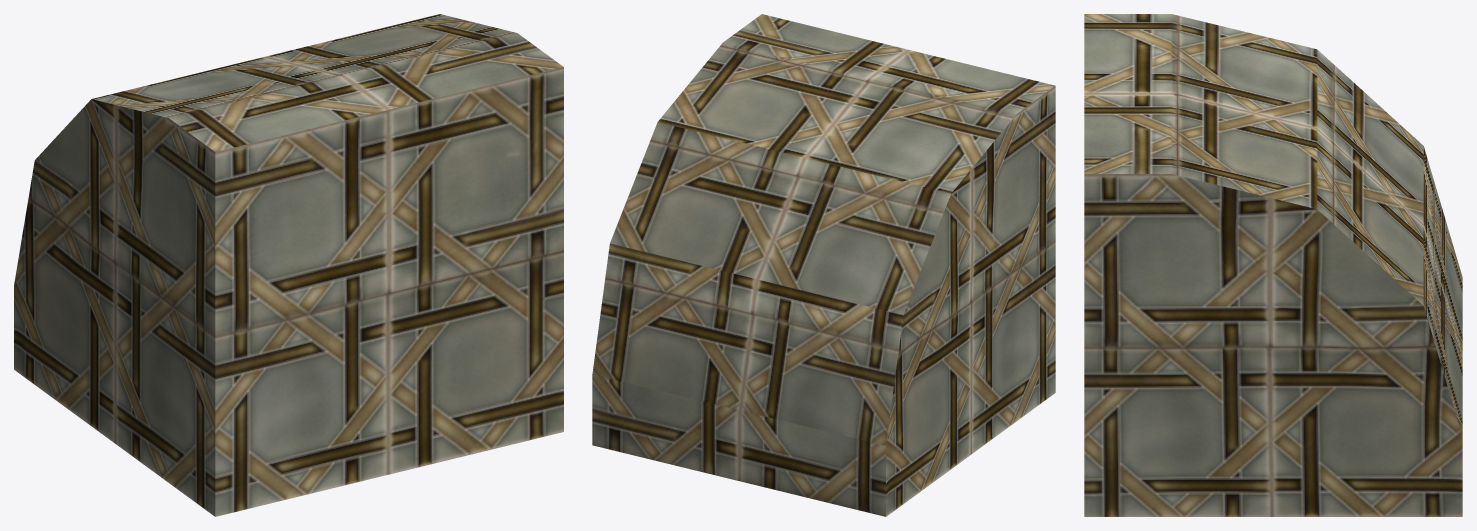
The model's file is POL0410012.fbx.
3 renders of one model, left to right at view 1: azimuth 30°, elevation 25°; view 2: azimuth 150°, elevation 25°; view 3: azimuth 270°, elevation 25°, orthographic. The views are drawn at different scales.
Parts seen in each view (by area): view 1: smPOL0410012; view 2: smPOL0410012; view 3: smPOL0410012.
Boxes of the visible parts, x1,y1,x2,y2 form: smPOL0410012: [14, 14, 563, 516]; smPOL0410012: [592, 14, 1055, 516]; smPOL0410012: [1084, 14, 1462, 516].
Bounding box in the file's own units: 161 × 161 × 161.
1 material, 1 textured.
